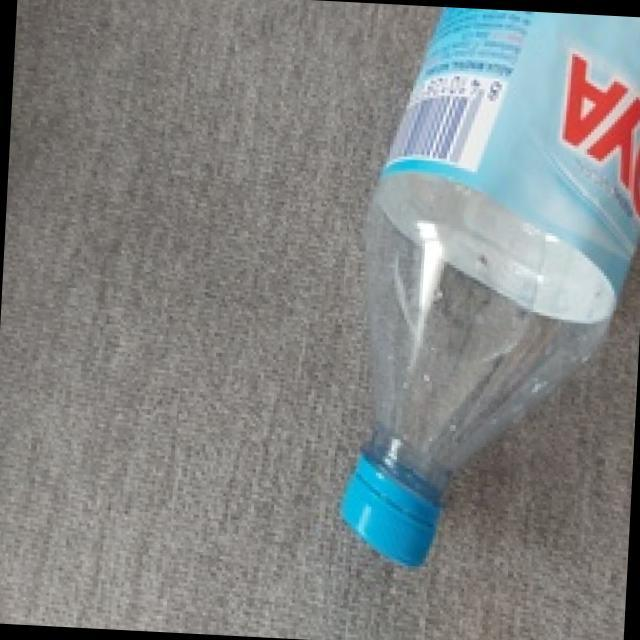good: (300, 0, 640, 586)
